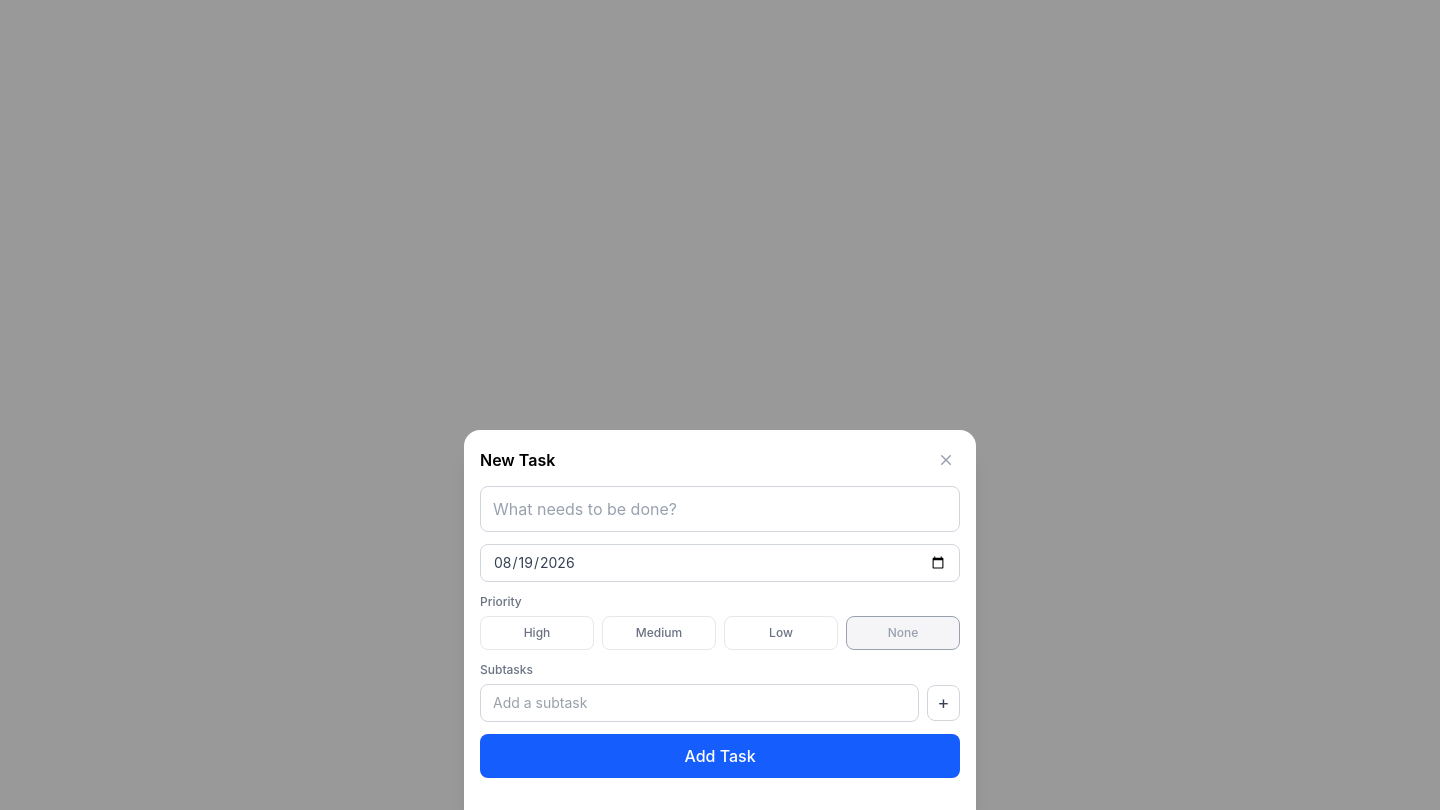
Test: QuickAdd › clears validation error when typing
This screenshot has width=1440, height=810.
Click the button "Add Task" at (720,756), box [480,734,960,778]
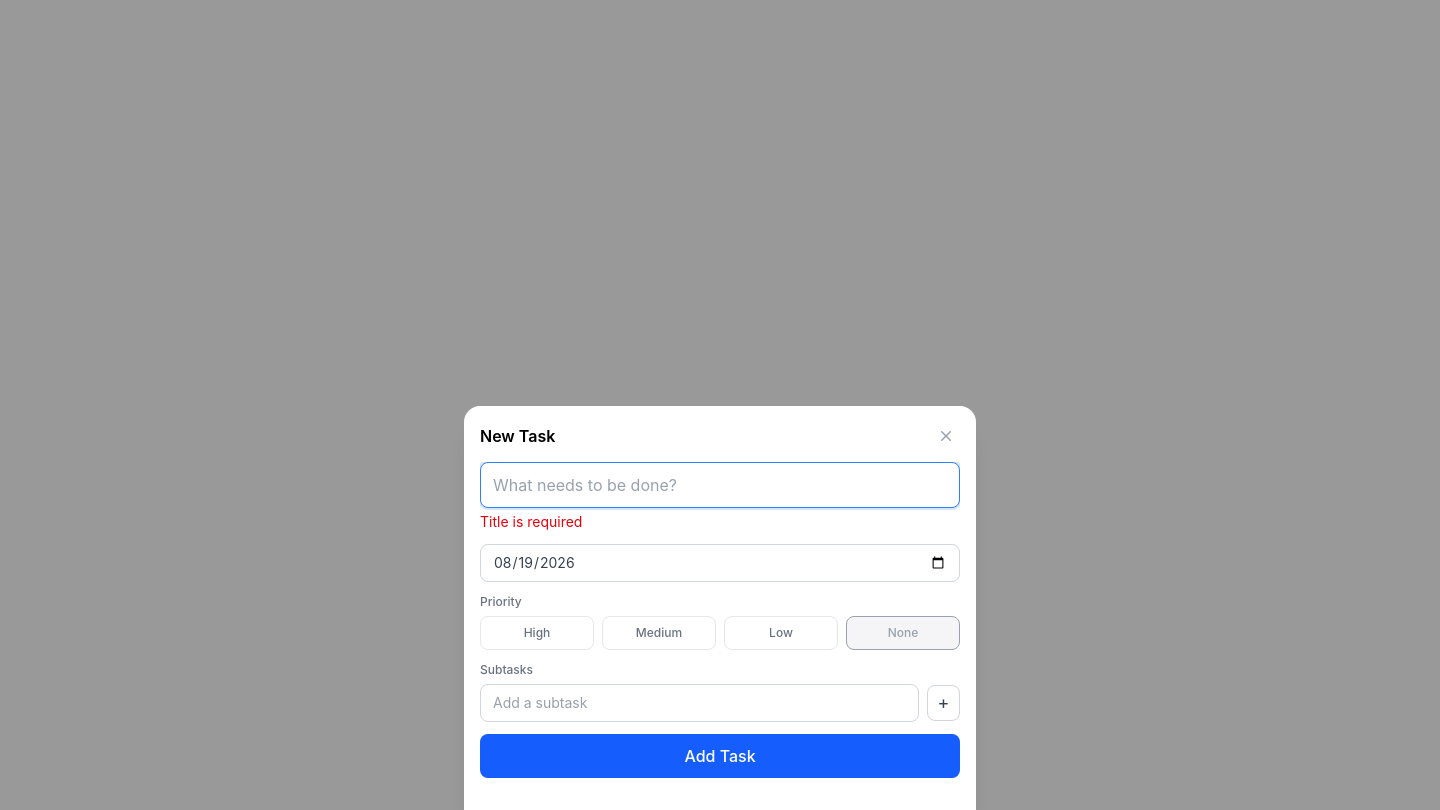
Expected: the text "Title is required" is shown, [480,513,582,530]
Type "a" into the field named "Task title" at (720,485), box [480,462,960,508]
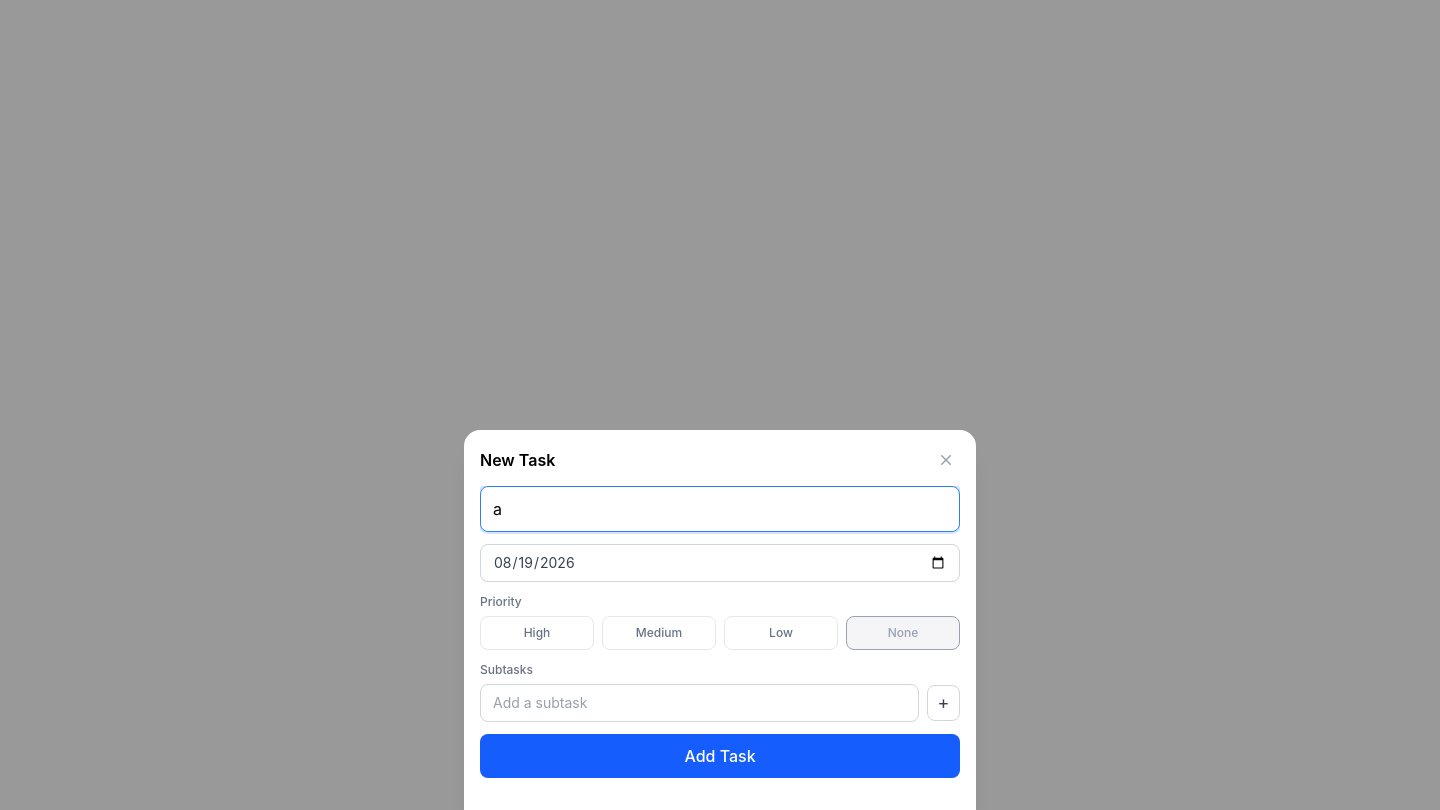
Expected: the text "Title is required" is gone
